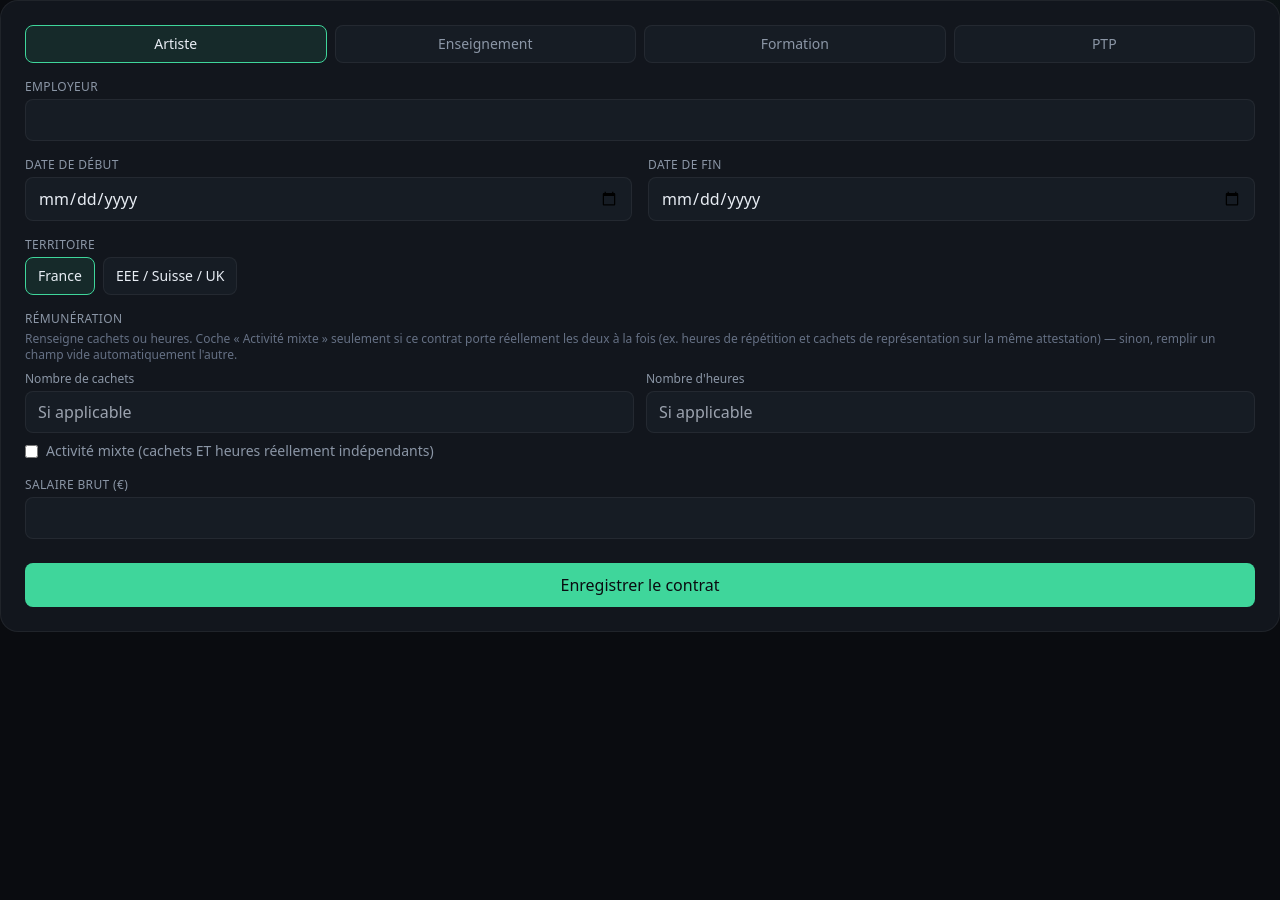
Test: ContractForm — un contrat EEE doit porter des jours travaillés (point 17) › territoire EEE, champ jours vide : message affiché et bouton désactivé
This screenshot has width=1280, height=900.
Step 1. Click the button "EEE / Suisse / UK" → (170, 276), box [103,257,237,295]
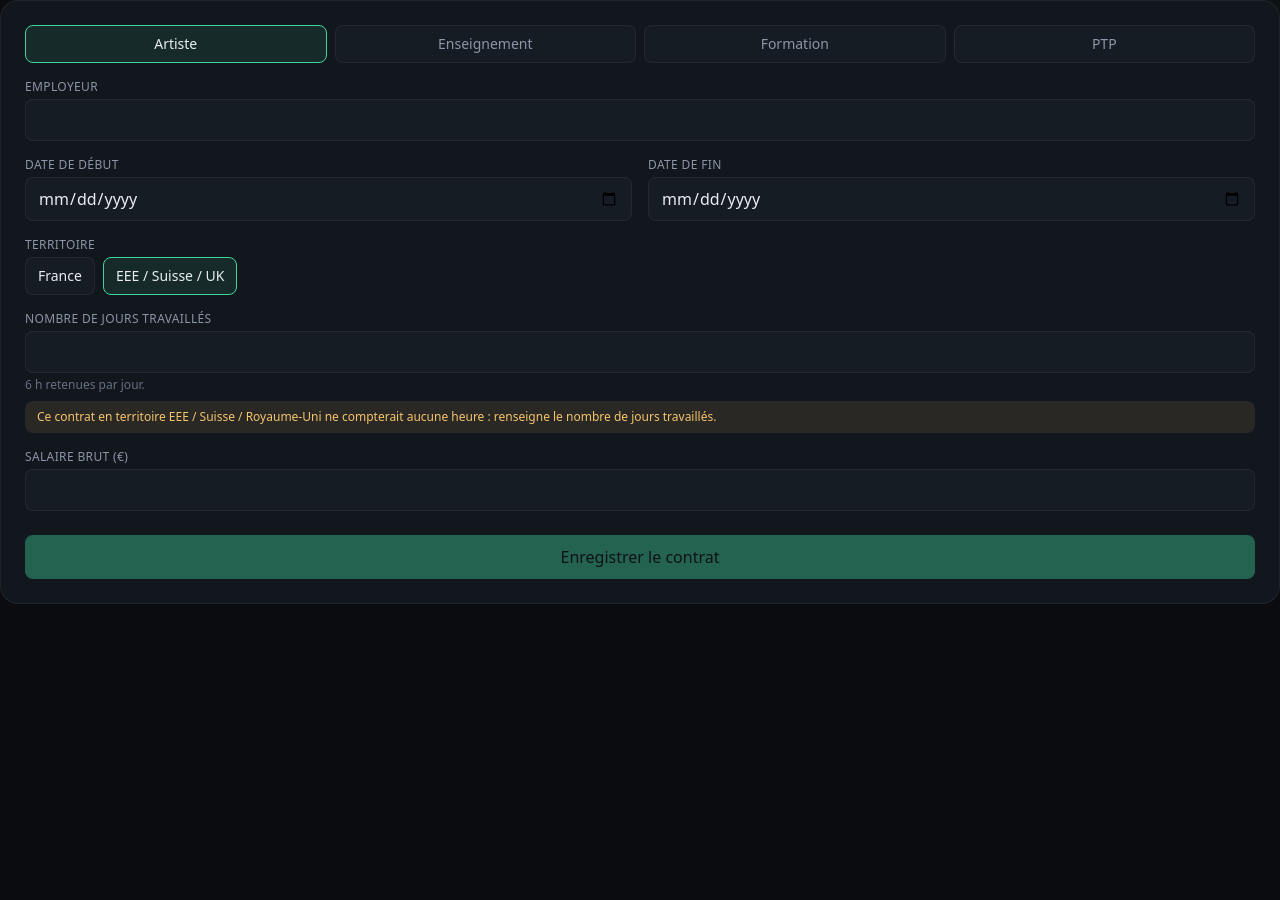
Expected: the text "Ce contrat en territoire EEE / Suisse / Royaume-Uni ne compterait aucune heure : renseigne le nombre de jours travaillés" is shown, [37,408,716,425]
Expected: the button "Enregistrer le contrat" is disabled, [25,535,1255,579]
